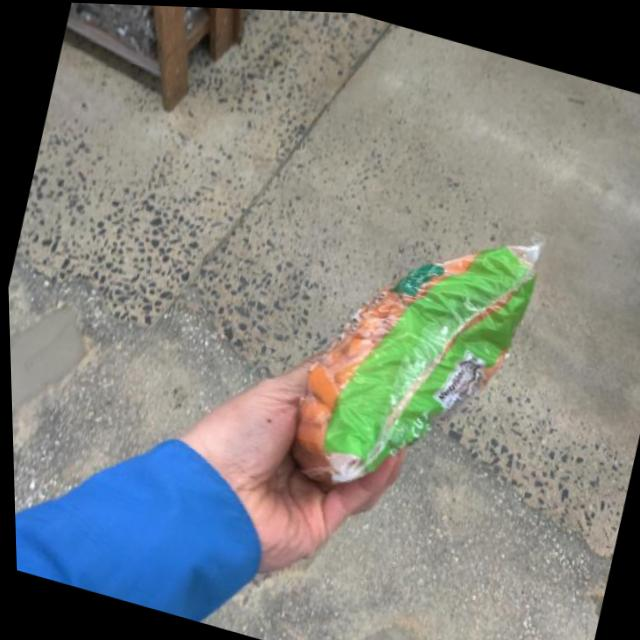Carrots: (270, 168, 568, 522)
